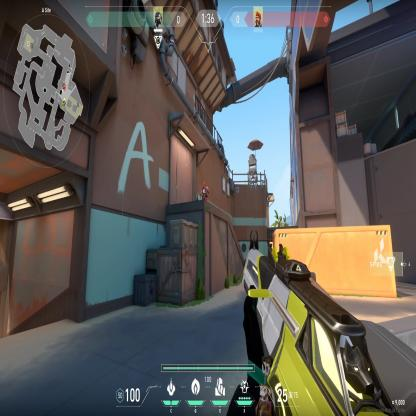enemy: (200, 180, 210, 200)
